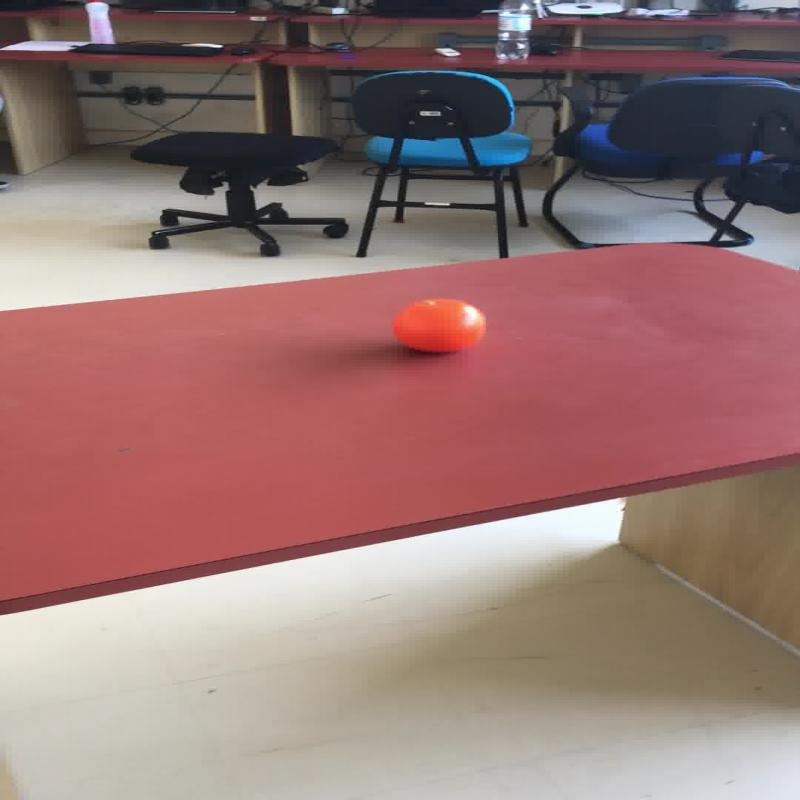orange: (390, 297, 485, 353)
